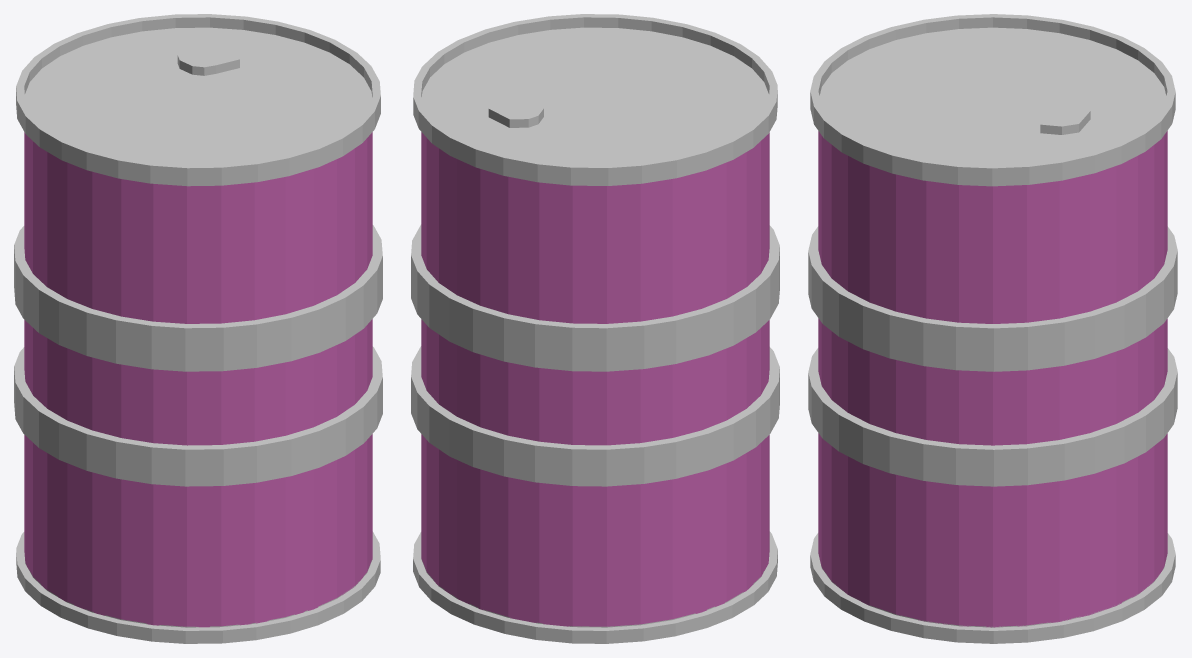
Rendered from ドラム缶 ピンク.fbx.
3 renders of one model, left to right at view 1: azimuth 30°, elevation 25°; view 2: azimuth 150°, elevation 25°; view 3: azimuth 270°, elevation 25°, orthographic.
Parts seen in each view (by area): view 1: Cylinder; view 2: Cylinder; view 3: Cylinder.
Part boxes in pixels (x1,y1,x2,y2): Cylinder: [14, 14, 382, 643]; Cylinder: [411, 14, 779, 643]; Cylinder: [808, 14, 1177, 643].
Size of the model in its own units: 212 by 301 by 212.
